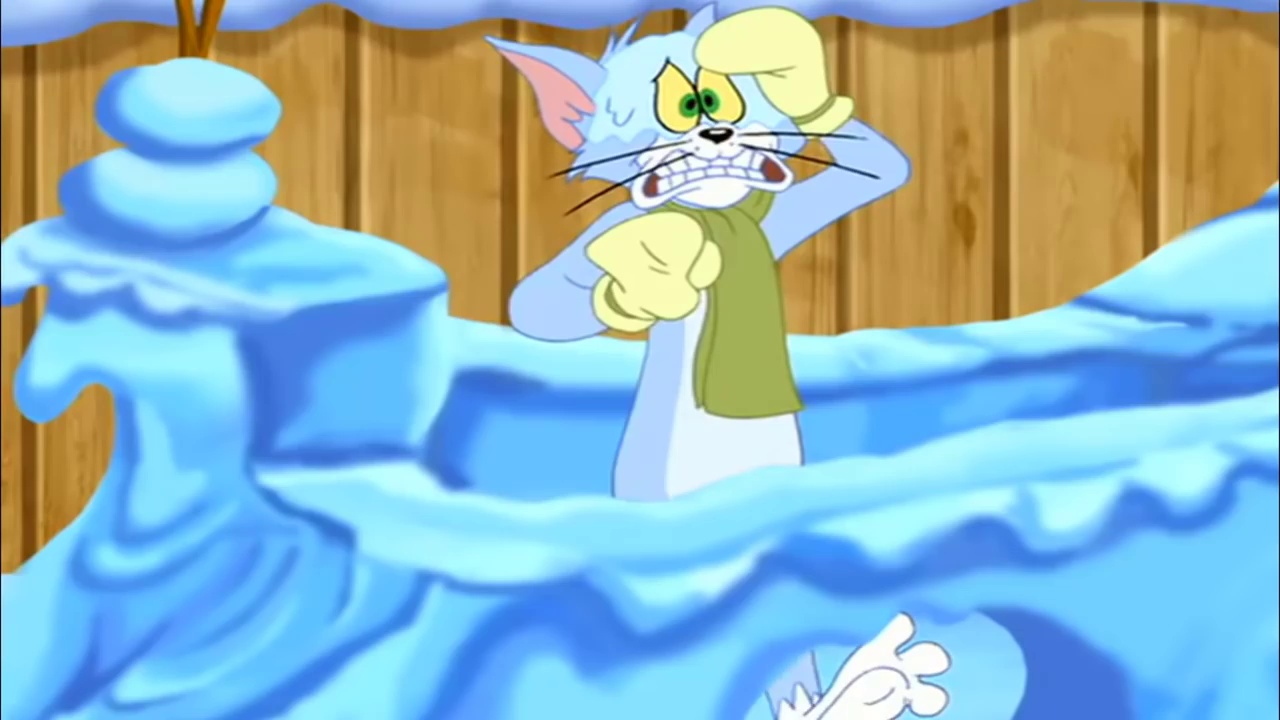face: (625, 55, 799, 211)
